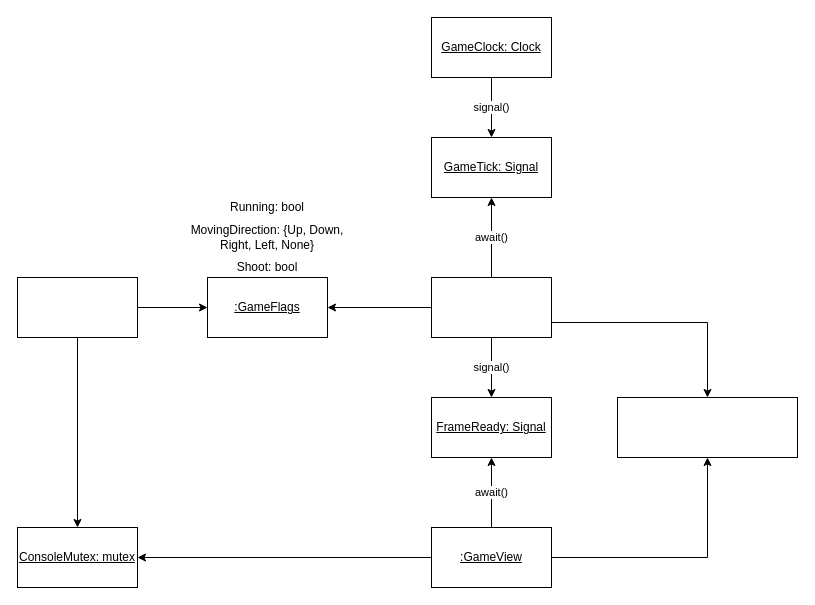
This 815x605 diagram has some shape labels left out. The centre of each missing label's shape, as x and y in pixels:
:DrawingInformationContainer: pixel 707 427
:GameEngine: pixel 491 307
:InputListener: pixel 77 307
